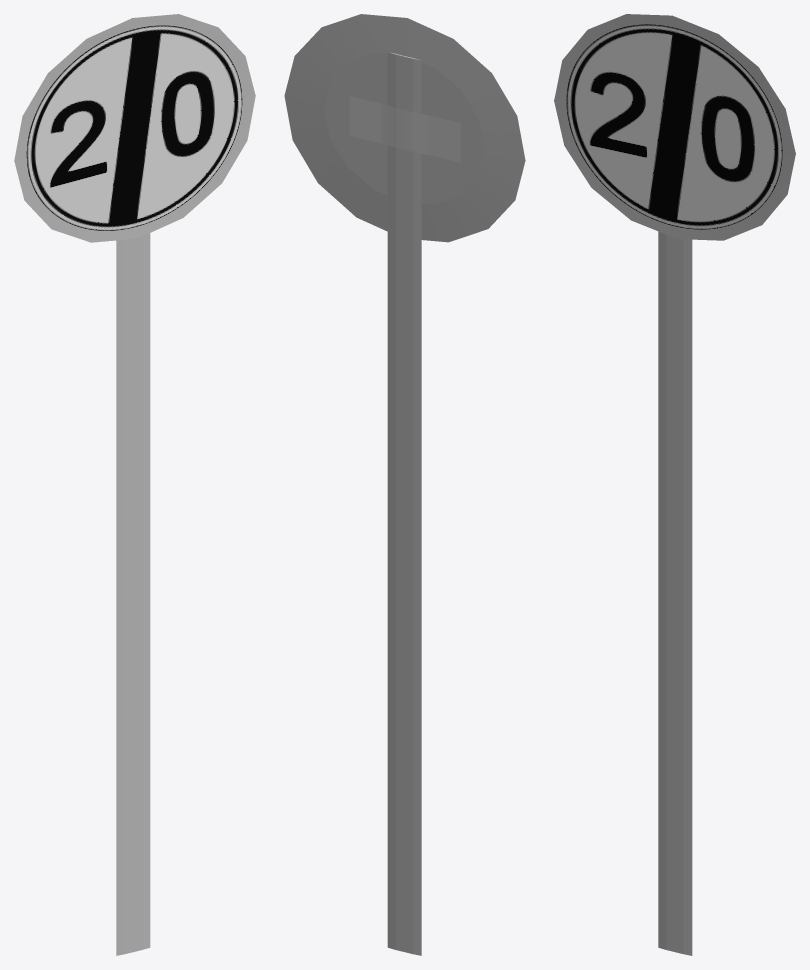
The model's file is 20sinir.dae.
The picture shows the model from 3 angles, left to right: view 1: azimuth 30°, elevation 25°; view 2: azimuth 150°, elevation 25°; view 3: azimuth 330°, elevation 25°; orthographic projection.
Visible parts, largest first — view 1: Sign_Circle.005; view 2: Sign_Circle.005; view 3: Sign_Circle.005.
Part boxes in pixels (x1=…): Sign_Circle.005: x1=14, y1=14, x2=255, y2=955; Sign_Circle.005: x1=284, y1=14, x2=525, y2=955; Sign_Circle.005: x1=554, y1=14, x2=795, y2=955.
Bounding box in the file's own units: 0.6353 × 0.00621 × 2.35.
3 materials, 1 textured.
